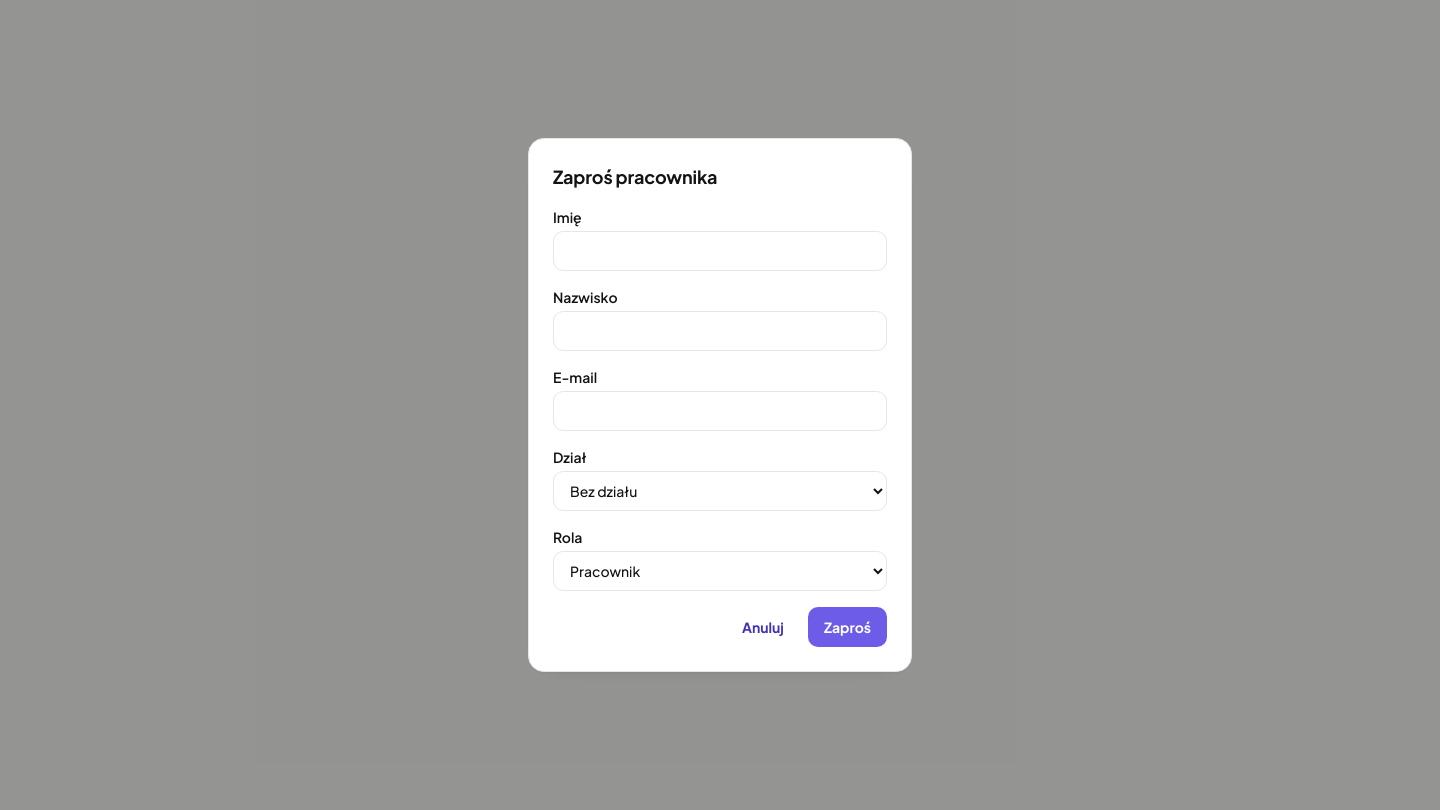
Test: InviteUserModal › limit licencji (409 SEAT_LIMIT) › zwykły błąd (inny kod) nie pokazuje odsyłacza do ustawień
In the field labelled "Imię": (720, 251) [553,231,887,271], type "Jan"
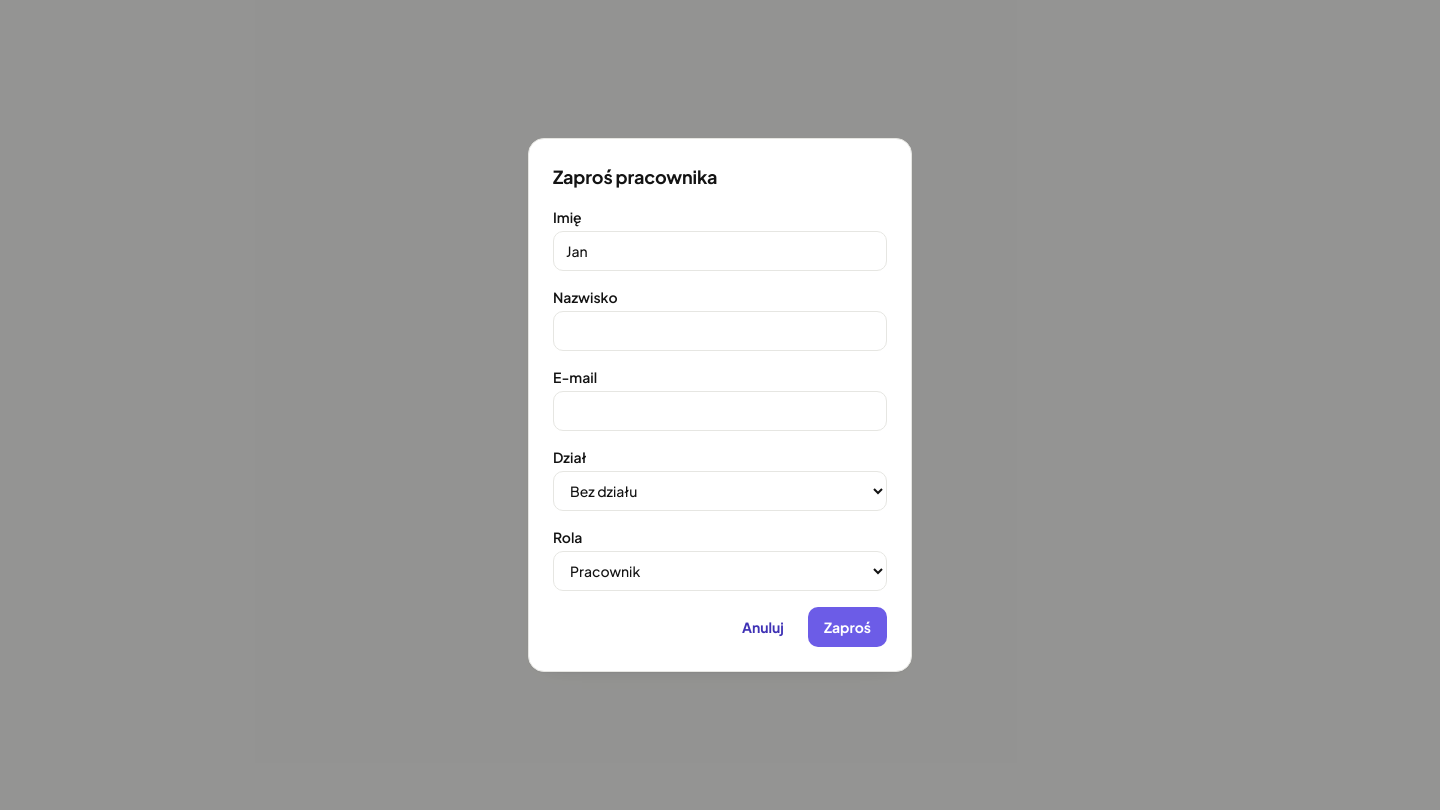
In the field labelled "Nazwisko": (720, 331) [553,311,887,351], type "Kowalski"
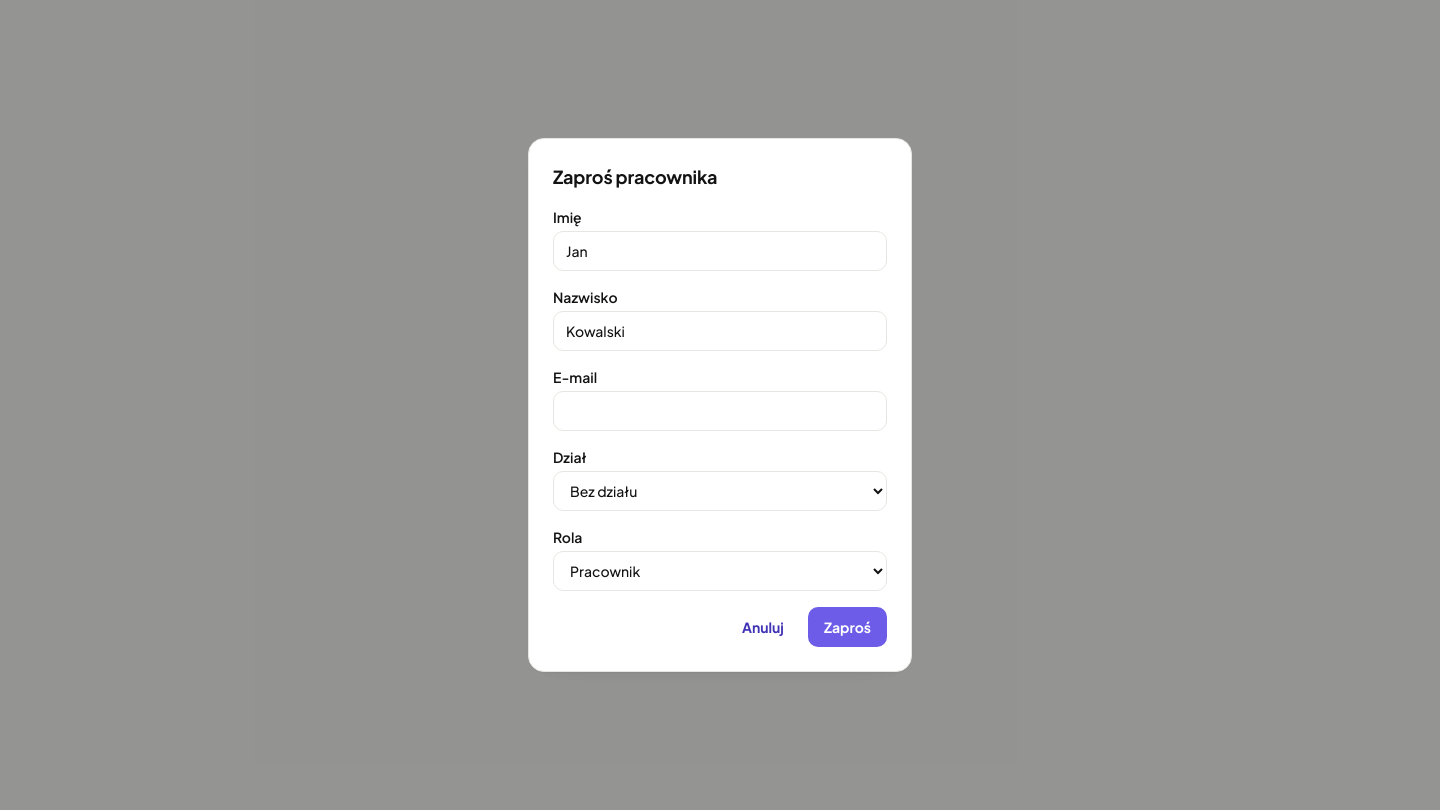
In the field labelled "E-mail": (720, 411) [553,391,887,431], type "nowy@test.pl"
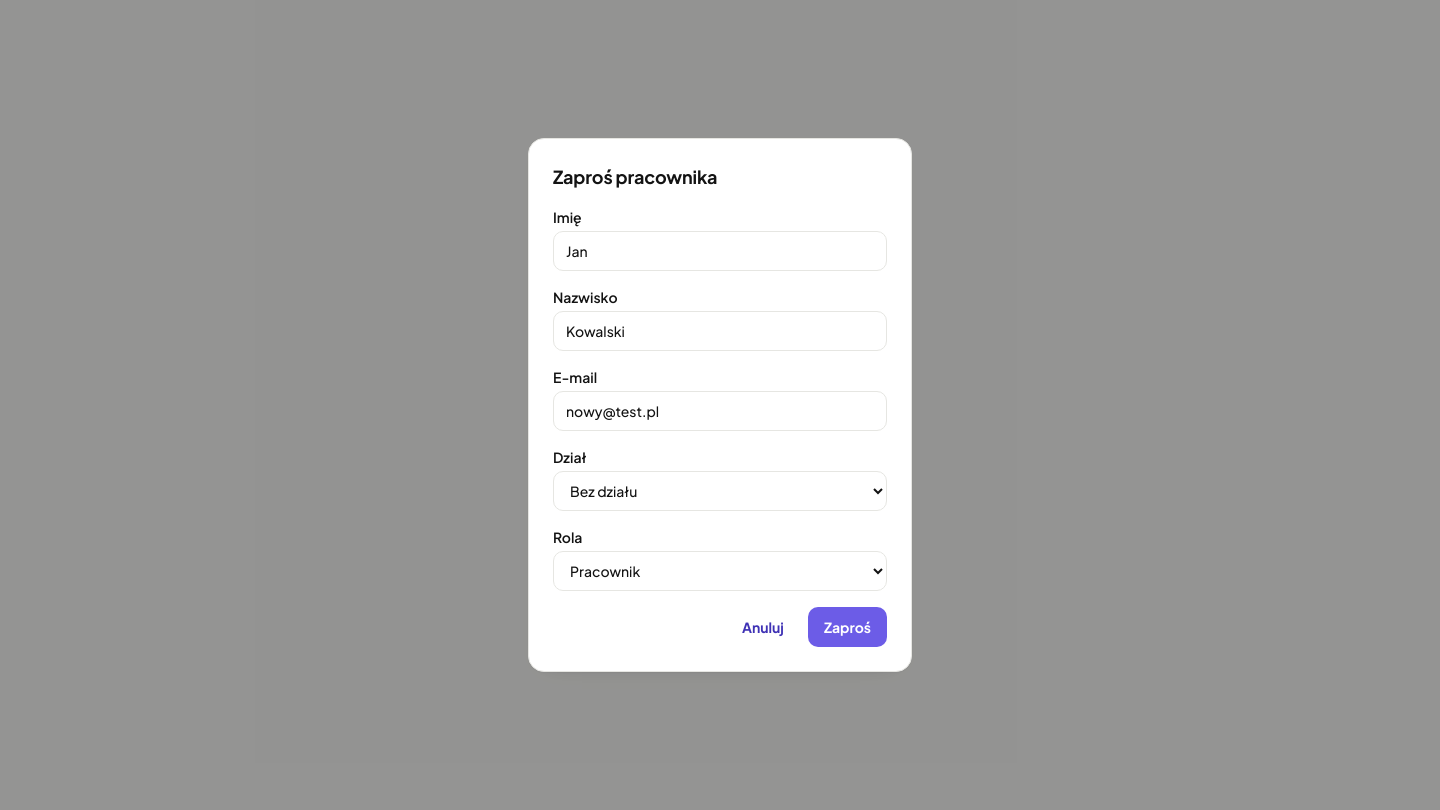
Click the button "Zaproś": (847, 627) [808,607,887,647]
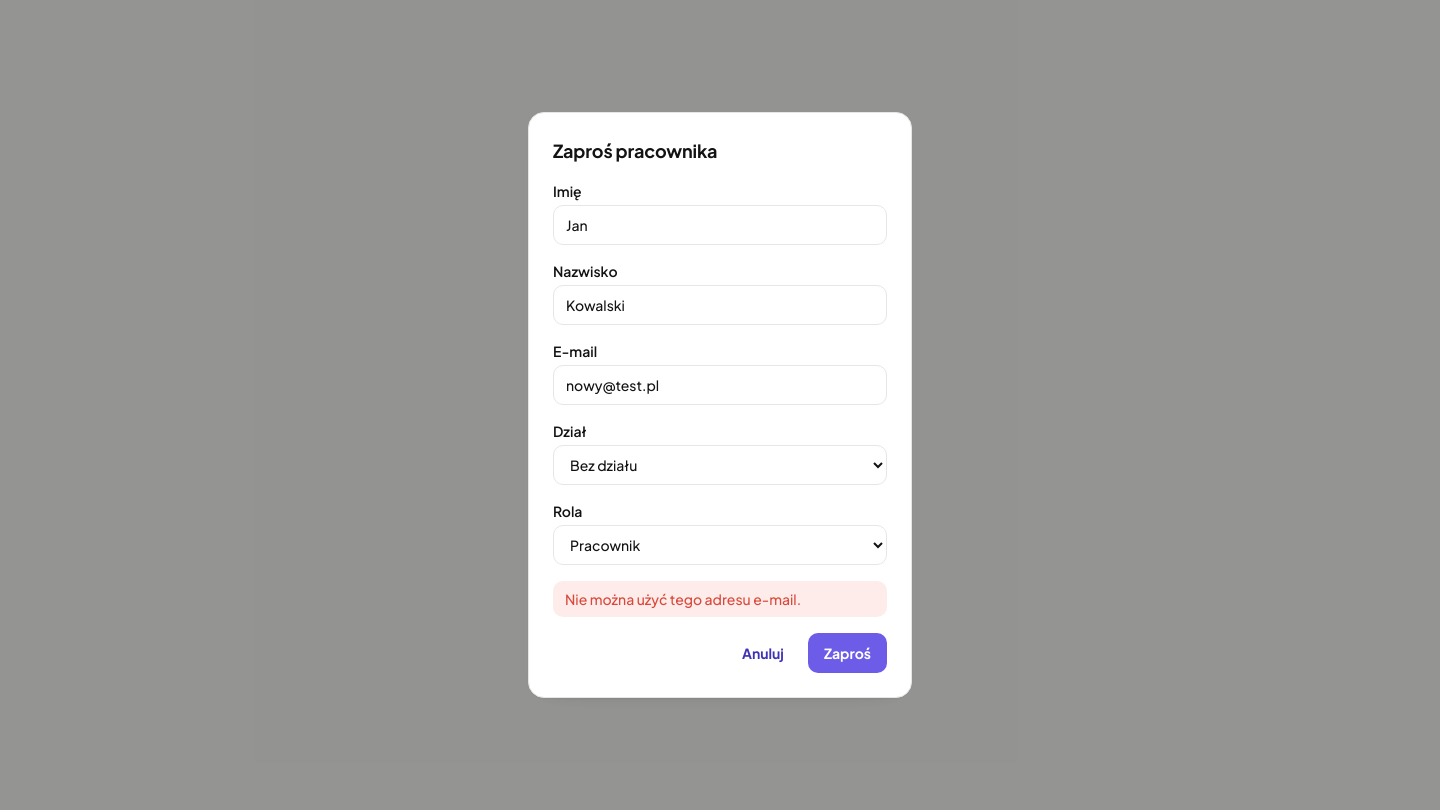
expect the message reads "Nie można użyć tego adresu e-mail.": met, box [565,590,801,608]
